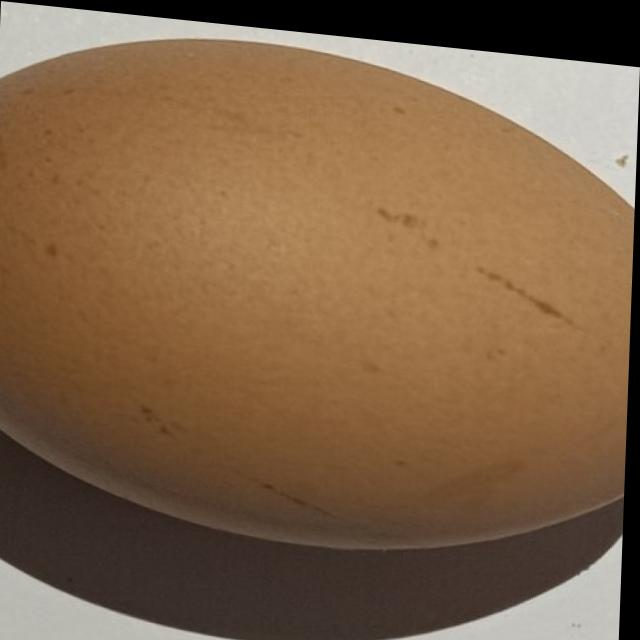fresh: (0, 3, 640, 562)
